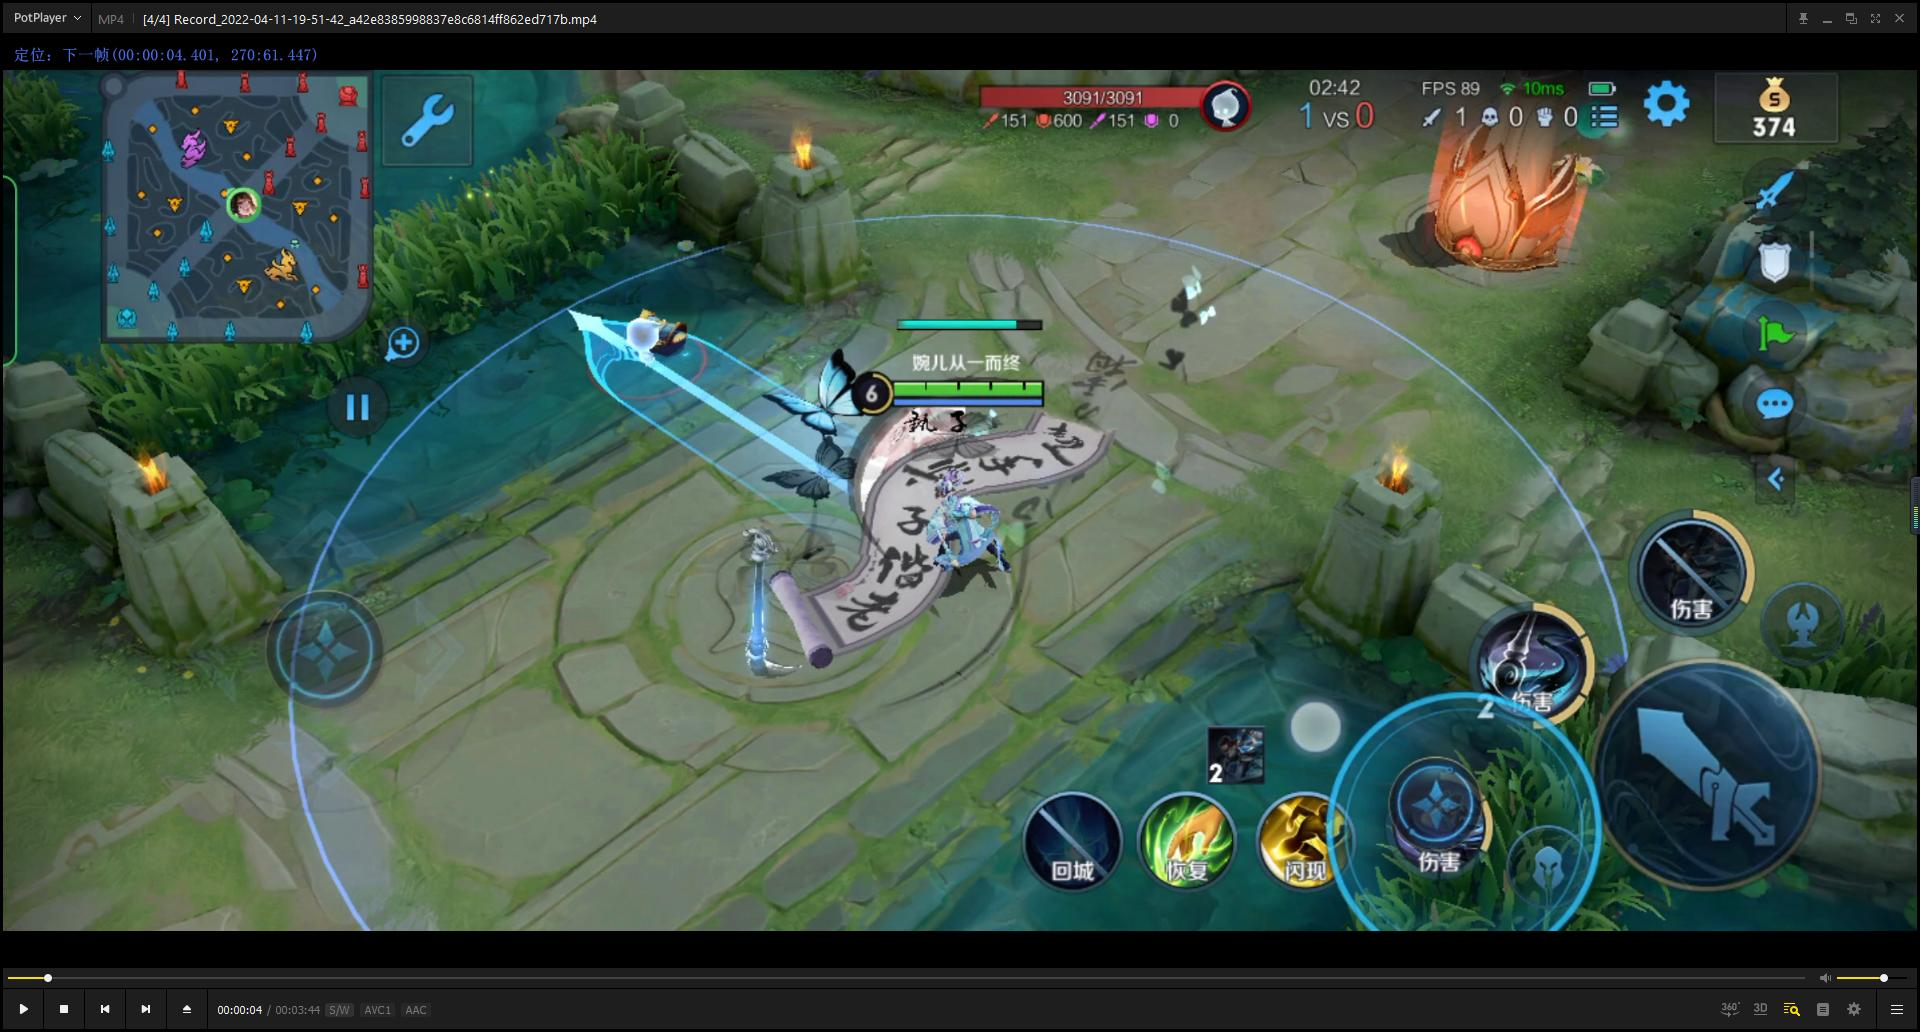Hero: (831, 413, 1058, 652)
Spirit: (606, 262, 696, 391)
Tower: (1390, 72, 1635, 285)
